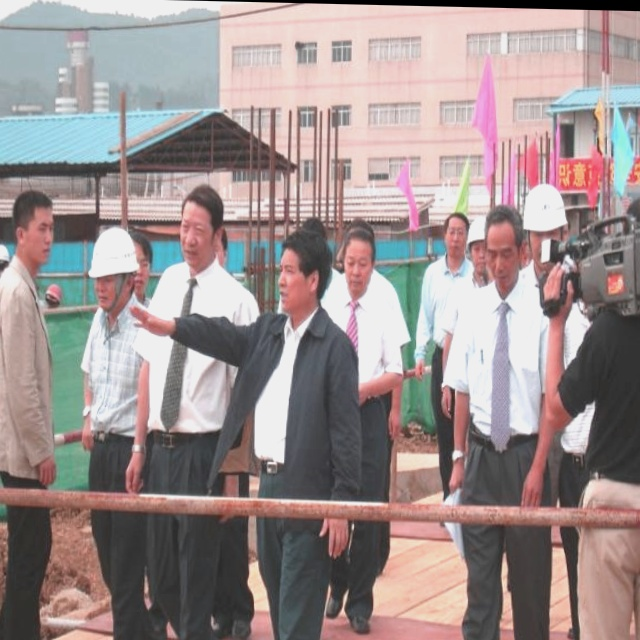Con_Casco: (88, 226, 137, 316)
Sin_Casco_Mascarrilla: (276, 228, 332, 317), (176, 185, 229, 269), (11, 191, 54, 268)
Sin_Chaleco: (240, 312, 357, 485), (0, 269, 60, 476)
